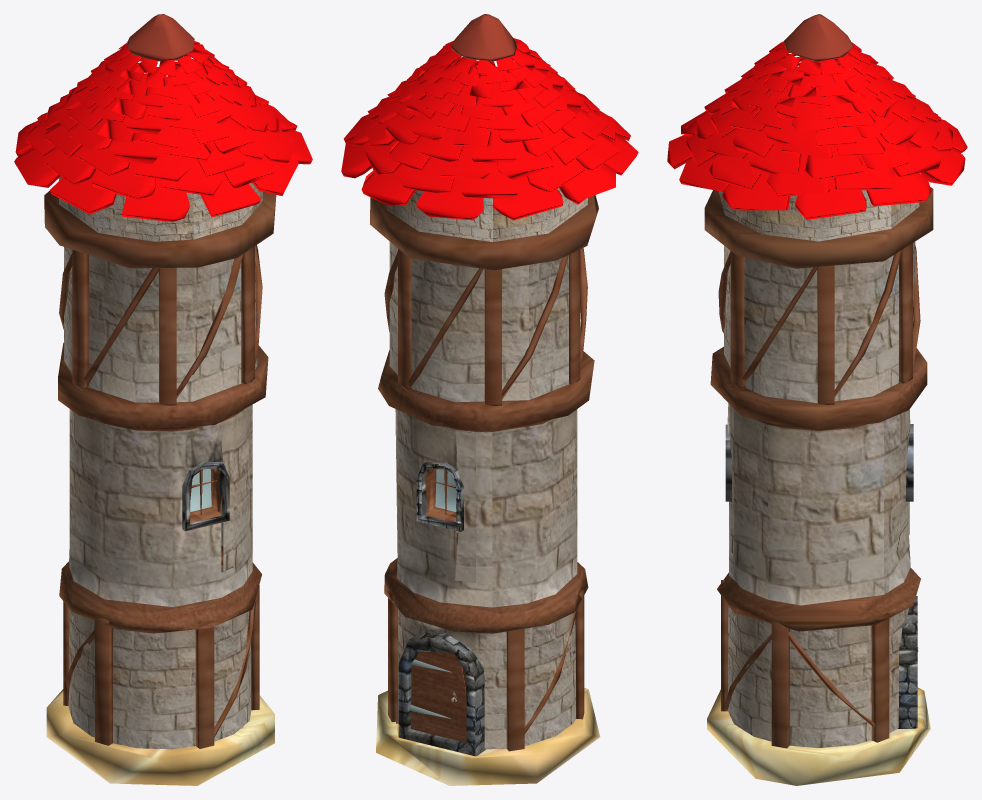
Rendered from tower.glb.
3 views of the same model, side by side, from view 1: azimuth 30°, elevation 25°; view 2: azimuth 150°, elevation 25°; view 3: azimuth 270°, elevation 25° (orthographic).
Parts seen in each view (by area): view 1: node_6, node_4, node_8; view 2: node_6, node_4, node_8; view 3: node_6, node_4, node_8.
Part boxes in pixels (x1=…): node_6: x1=44, y1=176, x2=276, y2=749; node_4: x1=14, y1=14, x2=312, y2=221; node_8: x1=46, y1=689, x2=274, y2=785; node_6: x1=370, y1=188, x2=598, y2=756; node_4: x1=341, y1=14, x2=638, y2=220; node_8: x1=376, y1=688, x2=600, y2=785; node_6: x1=704, y1=187, x2=933, y2=748; node_4: x1=667, y1=14, x2=967, y2=219; node_8: x1=707, y1=687, x2=930, y2=785.
Bounding box in the file's own units: 3.79 × 10.01 × 3.77.
3 materials, 3 textured.
